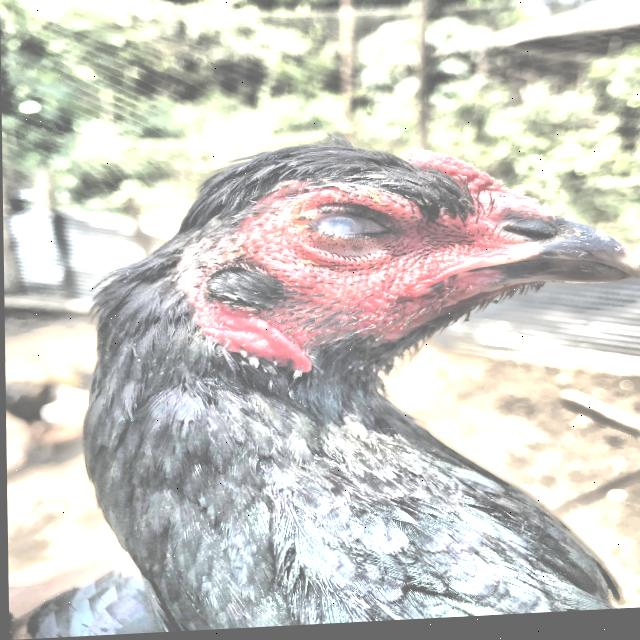Coryza: (2, 103, 640, 640)
